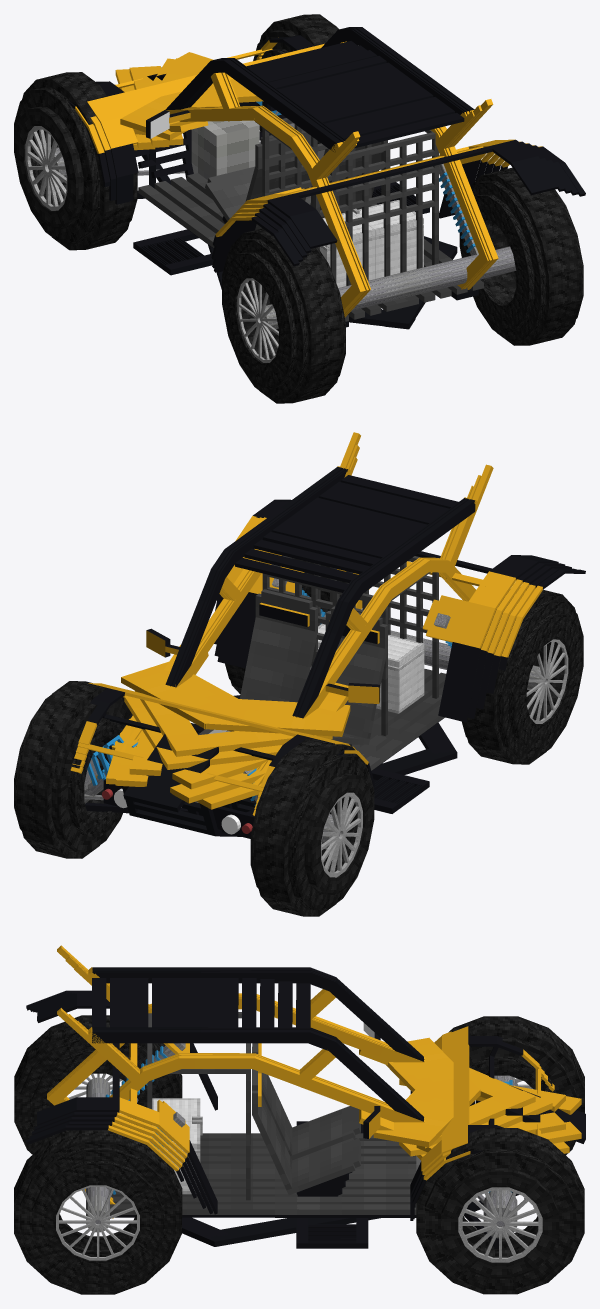
The model's file is dune_buggy.glb.
The picture shows the model from 3 angles, top to bottom: view 1: azimuth 30°, elevation 25°; view 2: azimuth 150°, elevation 25°; view 3: azimuth 270°, elevation 25°; orthographic projection. The views are drawn at different scales.
Visible parts, largest first — view 1: Body, Wheel_2, Wheel_3, Wheel_0, Wheel_1; view 2: Body, Wheel_0, Wheel_1, Wheel_2, Wheel_3; view 3: Body, Wheel_1, Wheel_3, Wheel_2, Wheel_0.
Part boxes in pixels (x1,y1,x2,y2): Body: (69, 27, 585, 330); Wheel_2: (222, 228, 345, 403); Wheel_3: (459, 167, 583, 345); Wheel_0: (14, 72, 137, 250); Wheel_1: (253, 14, 338, 150); Body: (70, 432, 585, 838); Wheel_0: (250, 739, 374, 916); Wheel_1: (14, 681, 132, 858); Wheel_2: (462, 589, 583, 764); Wheel_3: (225, 555, 346, 694); Body: (26, 945, 585, 1248); Wheel_1: (416, 1128, 584, 1294); Wheel_3: (14, 1130, 182, 1294); Wheel_2: (14, 1015, 182, 1154); Wheel_0: (448, 1016, 584, 1154).
Size of the model in its own units: 1.93 by 1.63 by 3.33.
Materials: 12 (11 with a texture image).
